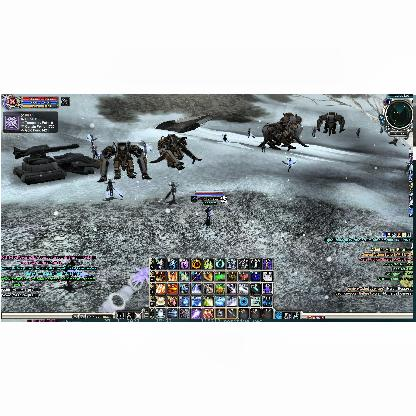caliana: (107, 180, 123, 198), (164, 181, 176, 201), (283, 158, 297, 172), (86, 134, 96, 144), (221, 132, 228, 144), (90, 146, 98, 156), (248, 127, 254, 138), (310, 127, 316, 136), (356, 128, 361, 138)
